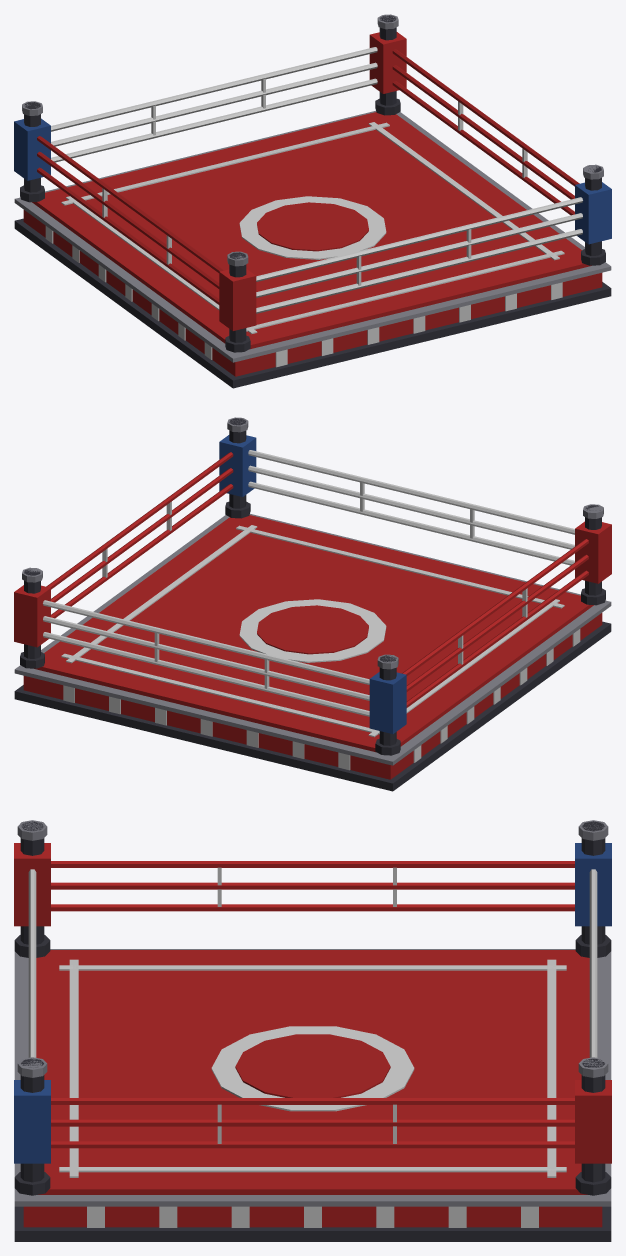
Rendered from Decor_GymHall_Ring.fbx.
3 renders of one model, top to bottom at view 1: azimuth 30°, elevation 25°; view 2: azimuth 150°, elevation 25°; view 3: azimuth 270°, elevation 25°, orthographic. The views are drawn at different scales.
Visible parts, largest first — view 1: Ring_Body; view 2: Ring_Body; view 3: Ring_Body.
Boxes of the visible parts, x1,y1,x2,y2 form: Ring_Body: [14, 14, 611, 388]; Ring_Body: [14, 417, 611, 791]; Ring_Body: [14, 820, 611, 1241].
Bounding box in the file's own units: 20 × 6.3 × 20.
